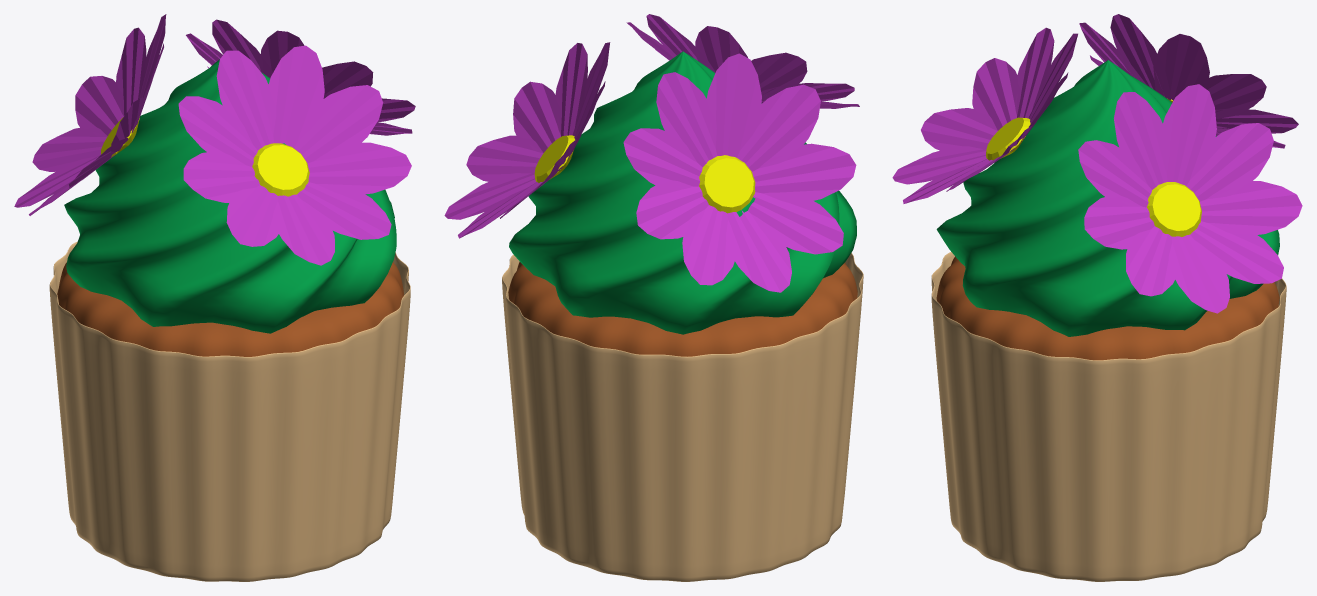
File: cupcake_flower.fbx
3 views of the same model, side by side, from view 1: azimuth 30°, elevation 25°; view 2: azimuth 150°, elevation 25°; view 3: azimuth 270°, elevation 25° (orthographic).
Parts seen in each view (by area): view 1: Cake.006; view 2: Cake.006; view 3: Cake.006.
Boxes of the visible parts, x1,y1,x2,y2 form: Cake.006: (14,14,415,581); Cake.006: (444,14,863,581); Cake.006: (892,14,1302,581).
Size of the model in its own units: 272 by 331 by 259.
